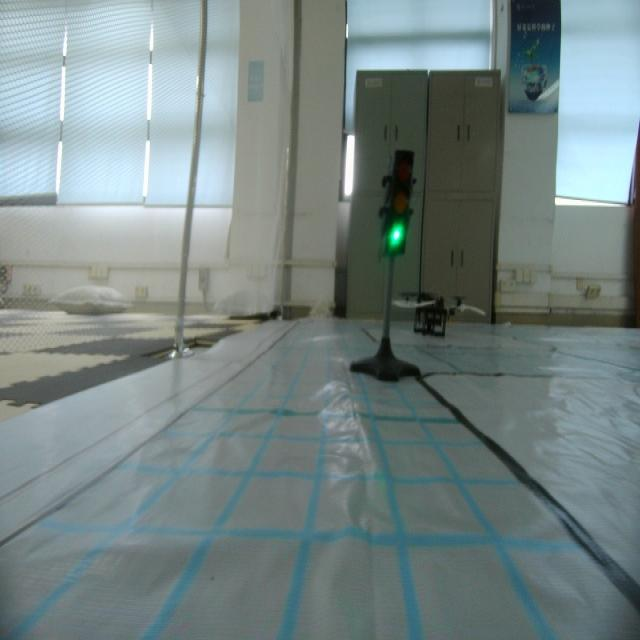green: (377, 147, 419, 258)
